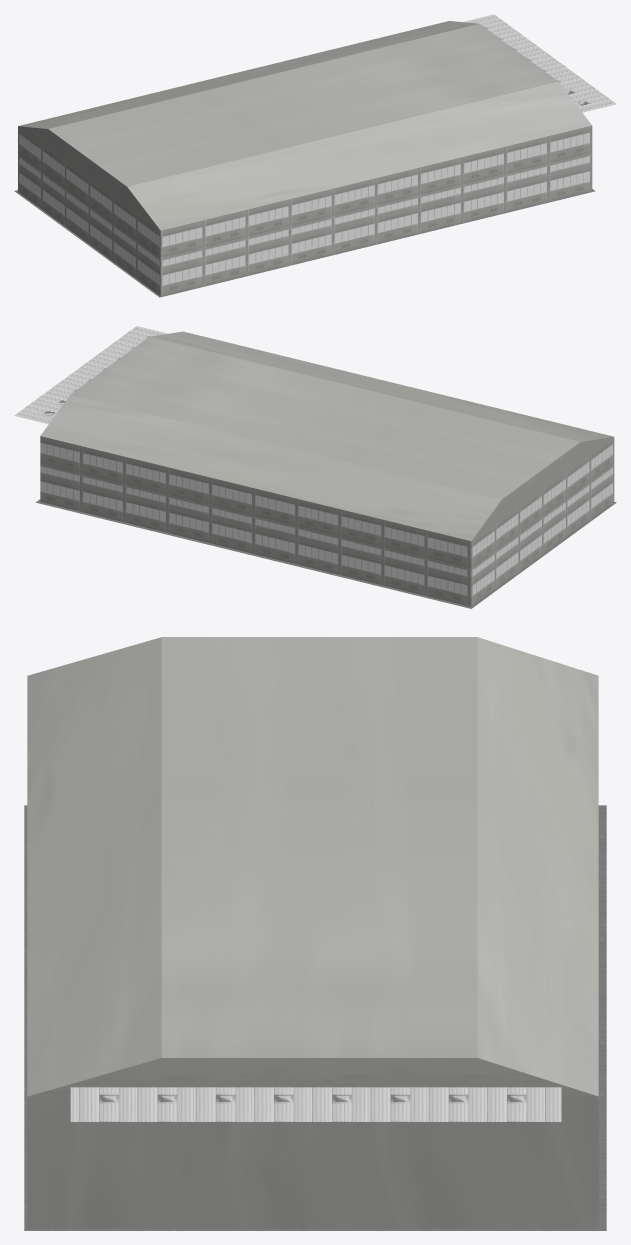
The model's file is Any.FBX.
The picture shows the model from 3 angles, top to bottom: view 1: azimuth 30°, elevation 25°; view 2: azimuth 150°, elevation 25°; view 3: azimuth 270°, elevation 25°; orthographic projection. The views are drawn at different scales.
Visible parts, largest first — view 1: JianZhu_QiangBi, JianZhu_TianHuaBan, JianZhu_DiMian; view 2: JianZhu_QiangBi, JianZhu_TianHuaBan, JianZhu_DiMian; view 3: JianZhu_QiangBi, JianZhu_TianHuaBan, JianZhu_DiMian.
Boxes of the visible parts, x1,y1,x2,y2 form: JianZhu_QiangBi: (18,21,592,296); JianZhu_TianHuaBan: (463,14,616,112); JianZhu_DiMian: (14,189,595,297); JianZhu_QiangBi: (40,331,614,606); JianZhu_TianHuaBan: (14,326,167,424); JianZhu_DiMian: (36,499,616,608); JianZhu_QiangBi: (27,637,598,1228); JianZhu_TianHuaBan: (70,1087,561,1121); JianZhu_DiMian: (24,805,606,1230).
Bounding box in the file's own units: 44.5 × 7.74 × 23.94.
Materials: 20 (20 with a texture image).
